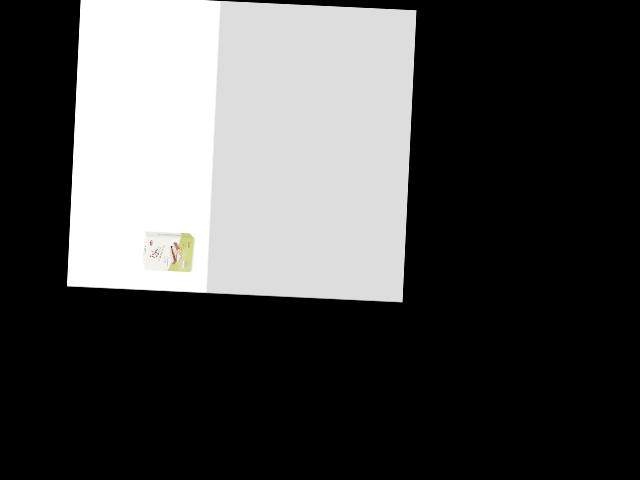chocolate: (142, 228, 195, 273)
